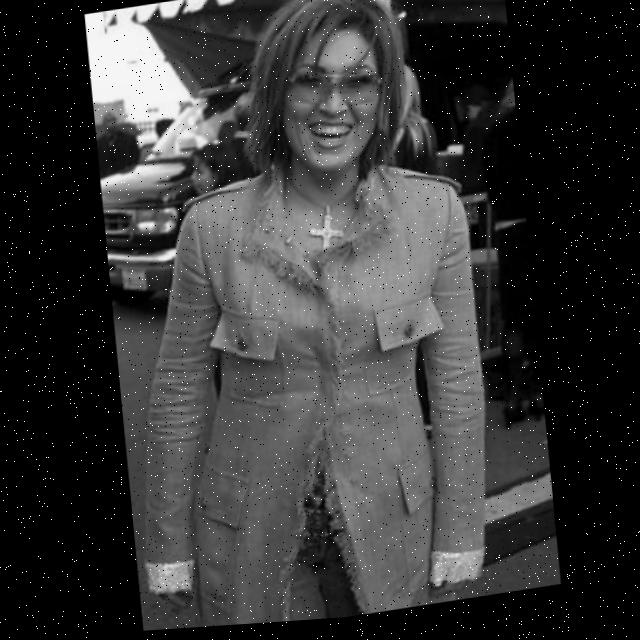face: (263, 3, 399, 209)
